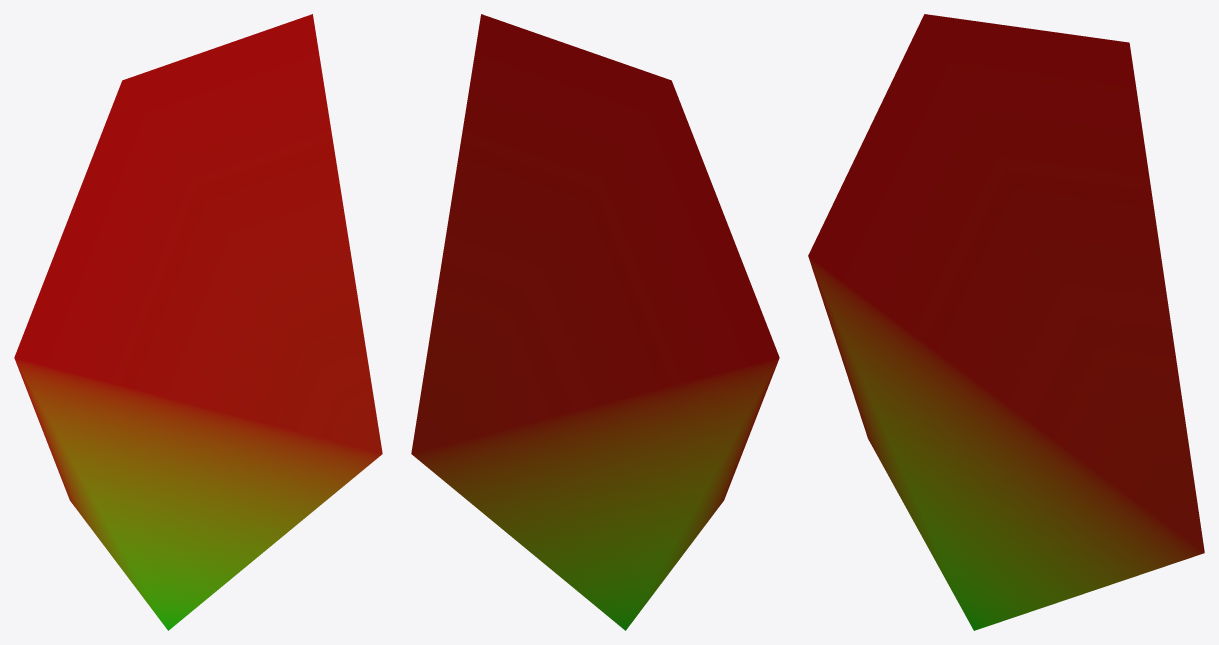
The model's file is Butterfly Weed_LOD4_Var13.fbx.
3 renders of one model, left to right at view 1: azimuth 30°, elevation 25°; view 2: azimuth 150°, elevation 25°; view 3: azimuth 330°, elevation 25°, orthographic. The views are drawn at different scales.
Parts seen in each view (by area): view 1: _o38n_Var13_LOD4; view 2: _o38n_Var13_LOD4; view 3: _o38n_Var13_LOD4.
Boxes of the visible parts, x1,y1,x2,y2 form: _o38n_Var13_LOD4: [14, 14, 382, 630]; _o38n_Var13_LOD4: [411, 14, 779, 630]; _o38n_Var13_LOD4: [808, 14, 1204, 630].
Size of the model in its own units: 30.39 by 45.85 by 2.59e-06.
